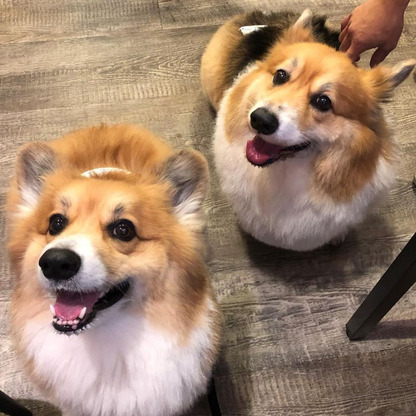Corgi: (13, 129, 209, 406), (218, 9, 393, 258)
